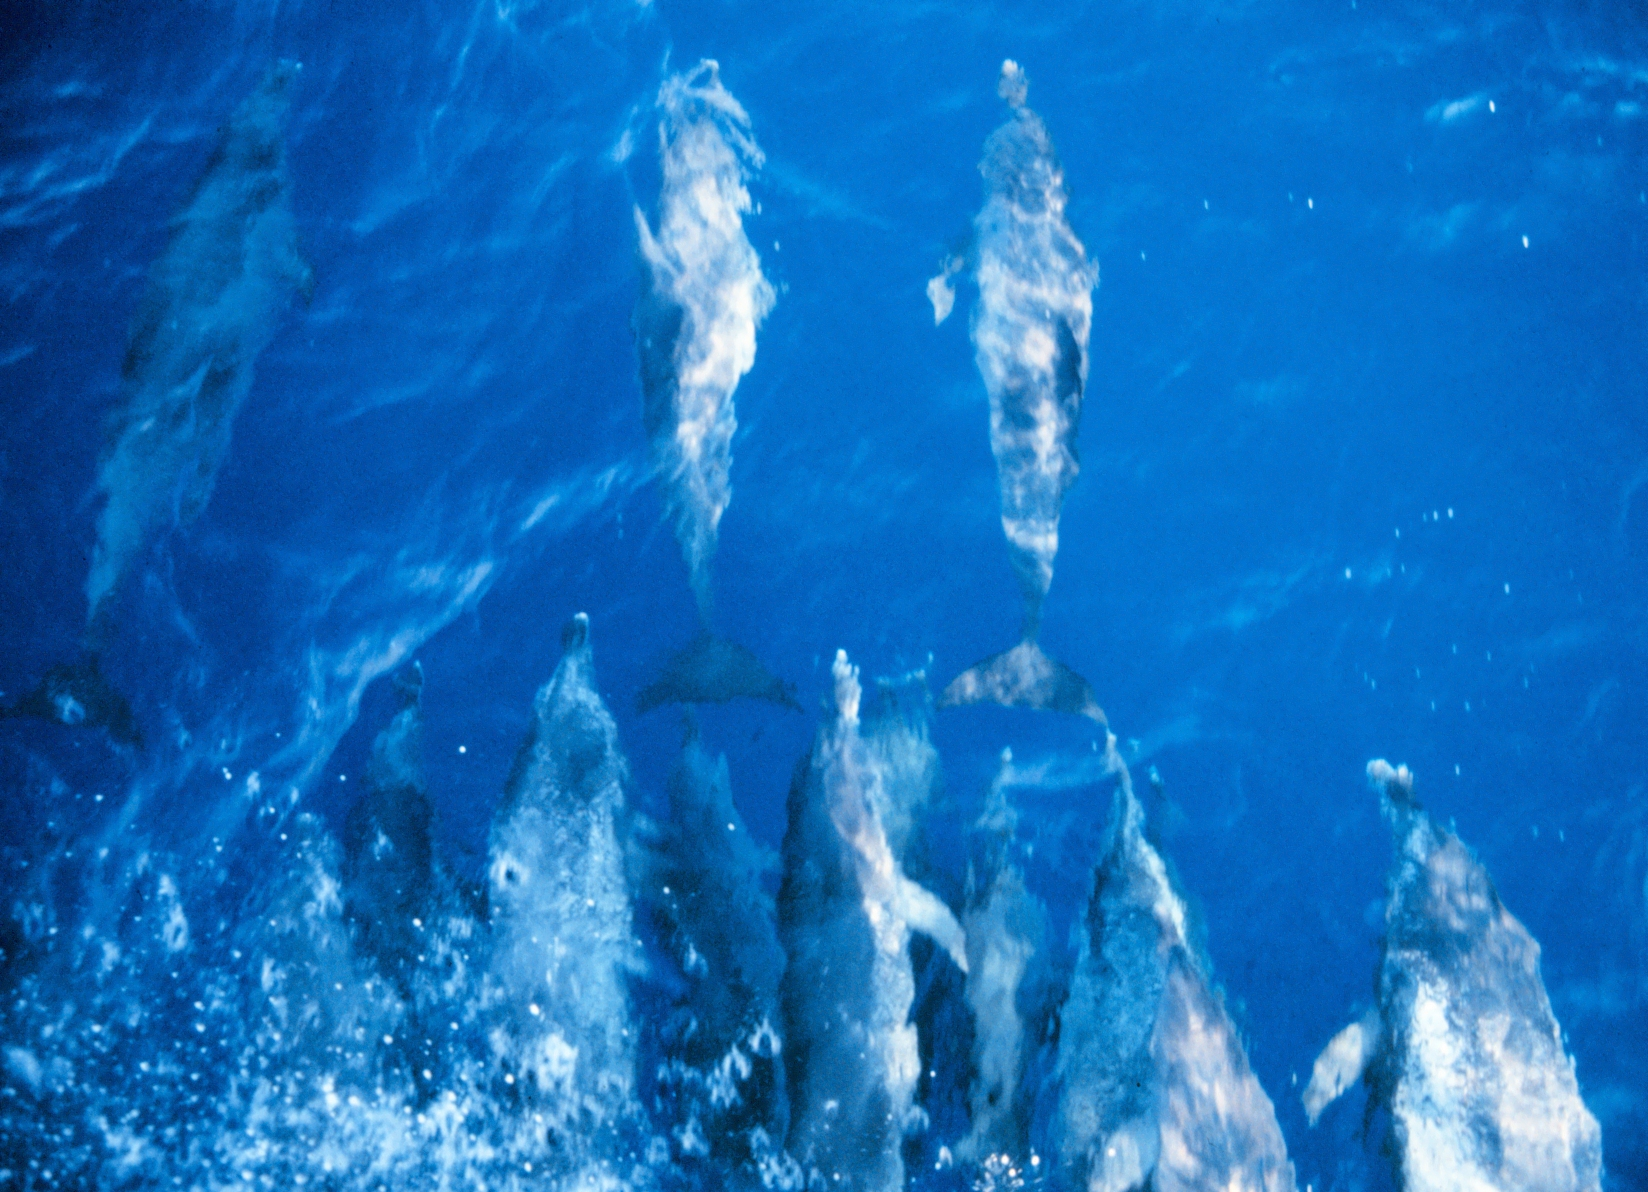dolphin: (73, 59, 315, 741), (1305, 755, 1604, 1192), (934, 61, 1107, 718), (473, 608, 663, 1192), (1050, 734, 1286, 1192), (640, 52, 804, 706), (780, 654, 969, 1192)
